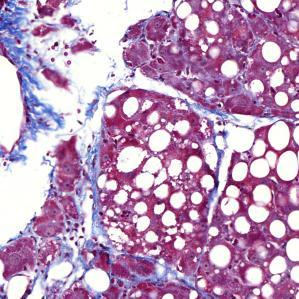fibrosis: (63, 195, 184, 288)
